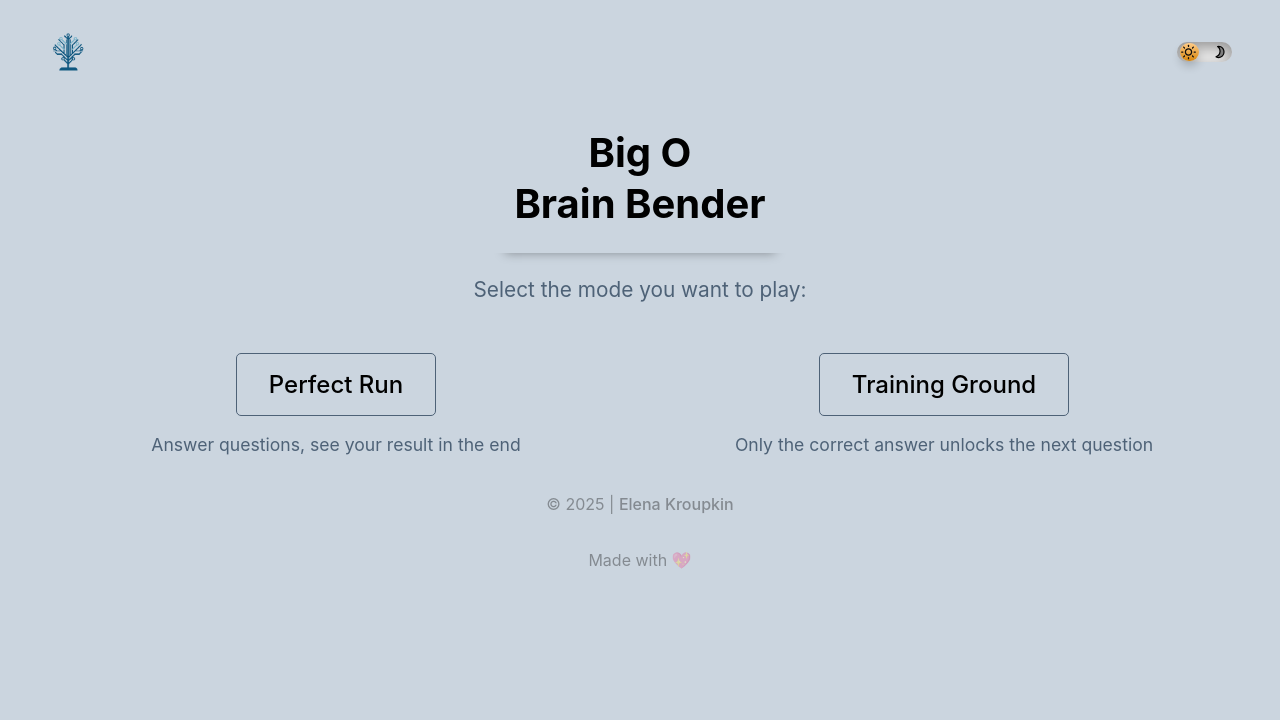
Scenario: Big O Quiz Application › should start training mode quiz
Click the button "Training Ground" at (944, 385), box [819, 353, 1069, 416]
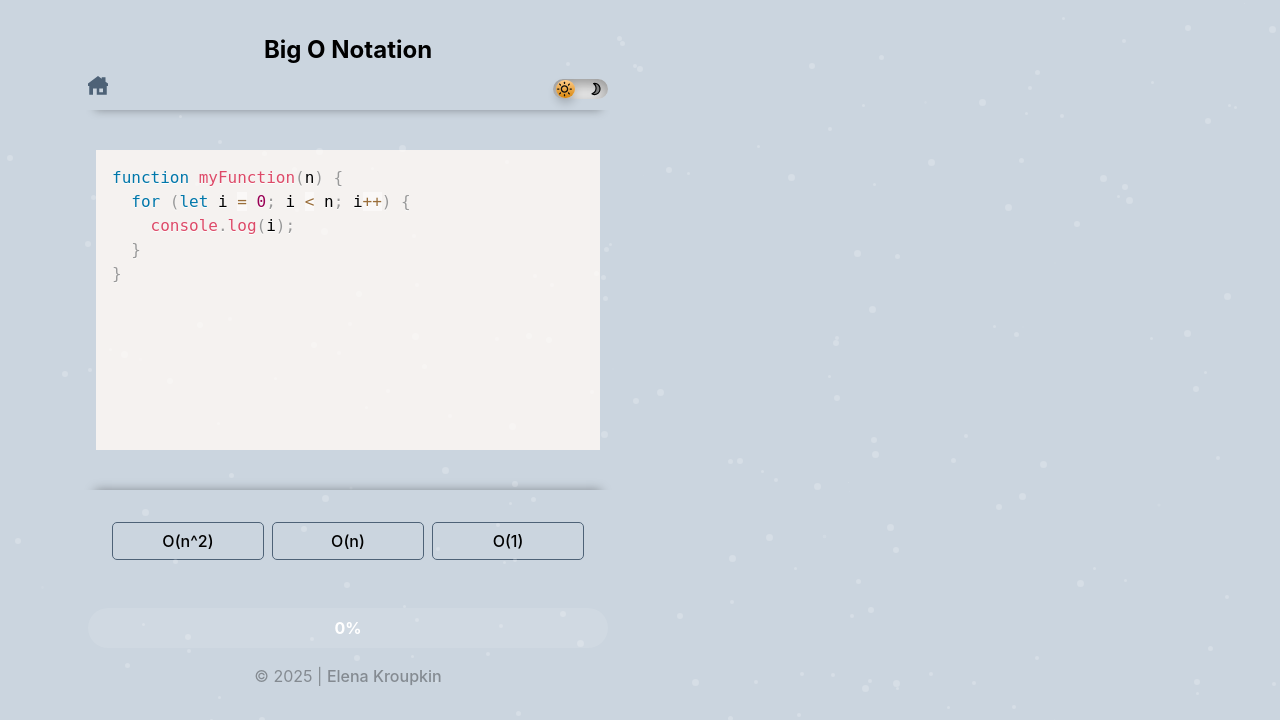
Result: the heading "Big O Notation" is shown at [264, 35, 432, 64]
Result: the element that starts with "function" is shown at [80, 68, 616, 719]
Result: the element showing "0%" is shown at [88, 608, 608, 648]
